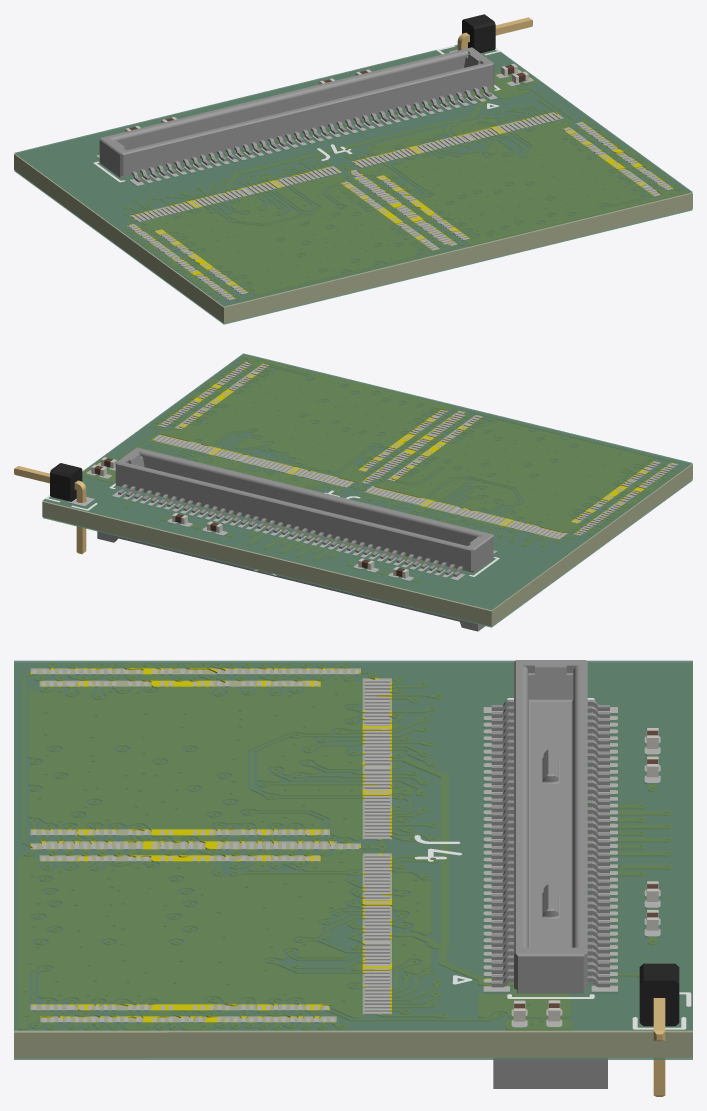
The model's file is asic-bottom-v4-0p8mm.glb.
3 renders of one model, top to bottom at view 1: azimuth 30°, elevation 25°; view 2: azimuth 150°, elevation 25°; view 3: azimuth 270°, elevation 25°, orthographic. The views are drawn at different scales.
Visible parts, largest first — view 1: =>[0:1:1:15], =>[0:1:1:10], =>[0:1:1:17], =>[0:1:1:5], =>[0:1:1:11], =>[0:1:1:7], =>[0:1:1:16]; view 2: =>[0:1:1:15], =>[0:1:1:10], =>[0:1:1:17], =>[0:1:1:5], =>[0:1:1:11], =>[0:1:1:7], =>[0:1:1:9], =>[0:1:1:16]; view 3: =>[0:1:1:15], =>[0:1:1:10], =>[0:1:1:17], =>[0:1:1:5], =>[0:1:1:11], =>[0:1:1:9], =>[0:1:1:7], =>[0:1:1:12], =>[0:1:1:16], =>[0:1:1:13].
Boxes of the visible parts, left/top/right/bottom form: =>[0:1:1:15]: left=14, top=44, right=692, bottom=306; =>[0:1:1:10]: left=124, top=68, right=687, bottom=300; =>[0:1:1:17]: left=14, top=46, right=692, bottom=323; =>[0:1:1:5]: left=99, top=47, right=494, bottom=182; =>[0:1:1:11]: left=96, top=50, right=671, bottom=300; =>[0:1:1:7]: left=457, top=14, right=532, bottom=53; =>[0:1:1:16]: left=14, top=171, right=692, bottom=324; =>[0:1:1:15]: left=42, top=353, right=692, bottom=610; =>[0:1:1:10]: left=83, top=356, right=679, bottom=582; =>[0:1:1:17]: left=42, top=355, right=692, bottom=626; =>[0:1:1:5]: left=115, top=447, right=493, bottom=576; =>[0:1:1:11]: left=68, top=362, right=676, bottom=580; =>[0:1:1:7]: left=14, top=463, right=86, bottom=554; =>[0:1:1:9]: left=97, top=531, right=485, bottom=631; =>[0:1:1:16]: left=43, top=480, right=692, bottom=627; =>[0:1:1:15]: left=14, top=660, right=692, bottom=1030; =>[0:1:1:10]: left=18, top=663, right=670, bottom=1029; =>[0:1:1:17]: left=14, top=663, right=692, bottom=1058; =>[0:1:1:5]: left=491, top=660, right=609, bottom=993; =>[0:1:1:11]: left=32, top=669, right=660, bottom=1027; =>[0:1:1:9]: left=493, top=1058, right=607, bottom=1088; =>[0:1:1:7]: left=639, top=963, right=679, bottom=1096; =>[0:1:1:12]: left=23, top=664, right=668, bottom=1027; =>[0:1:1:16]: left=14, top=1058, right=692, bottom=1059; =>[0:1:1:13]: left=414, top=698, right=691, bottom=1029.
Size of the model in its own units: 0.0238 by 0.00377 by 0.017.
